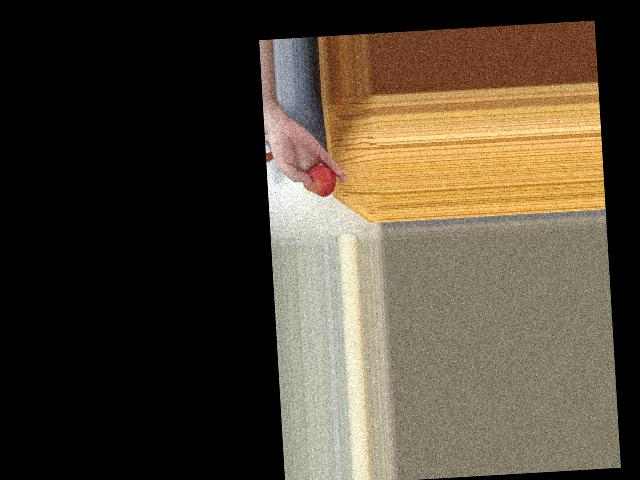apple: (300, 158, 337, 200)
